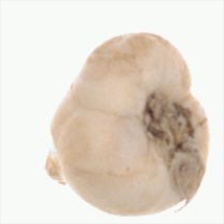L3: (45, 122, 72, 189)
L4: (45, 33, 209, 216)
